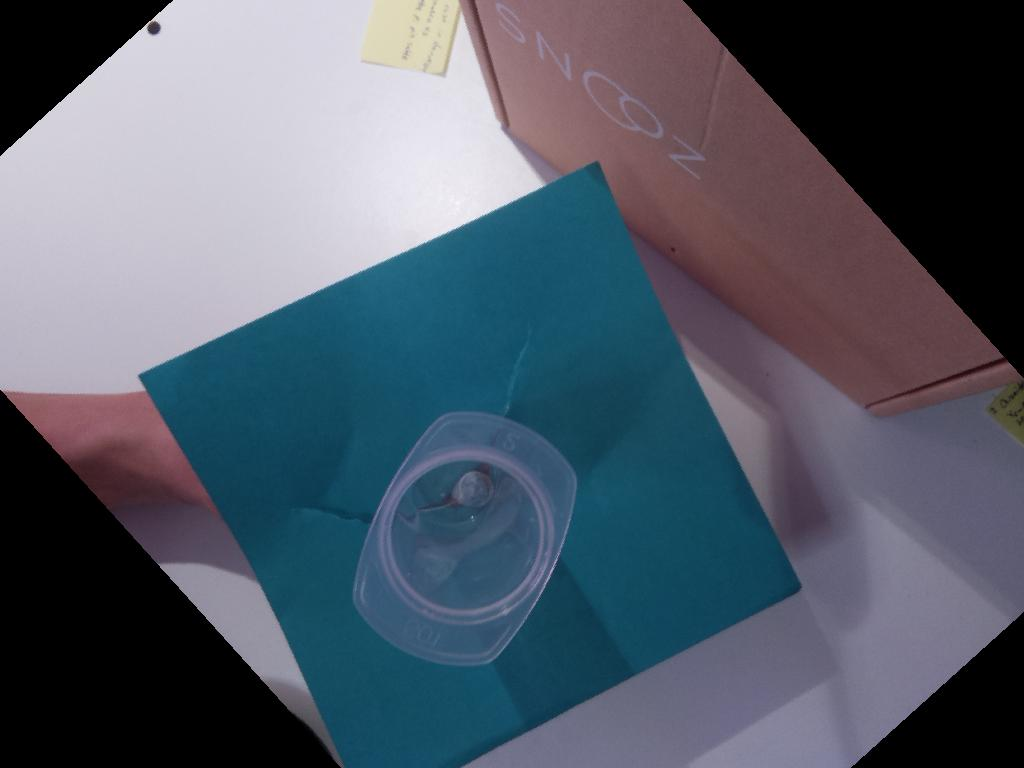clean: (354, 412, 576, 667)
